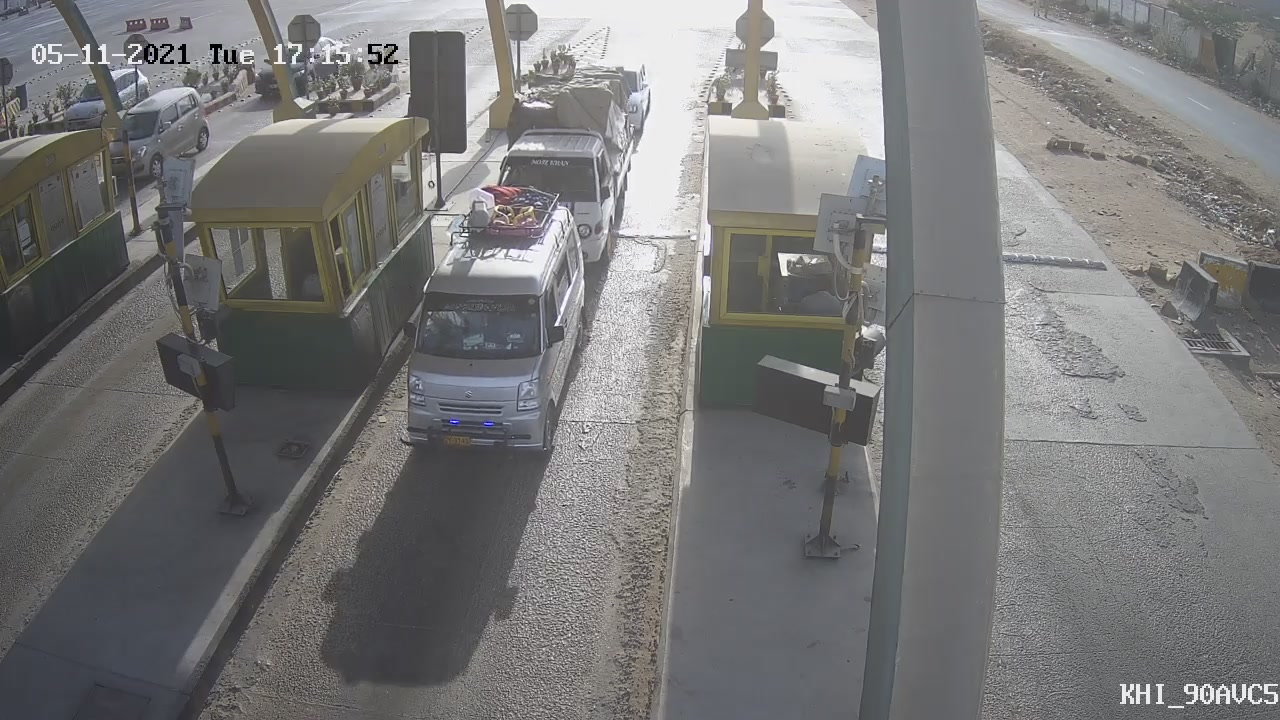F1: (377, 172, 611, 477)
